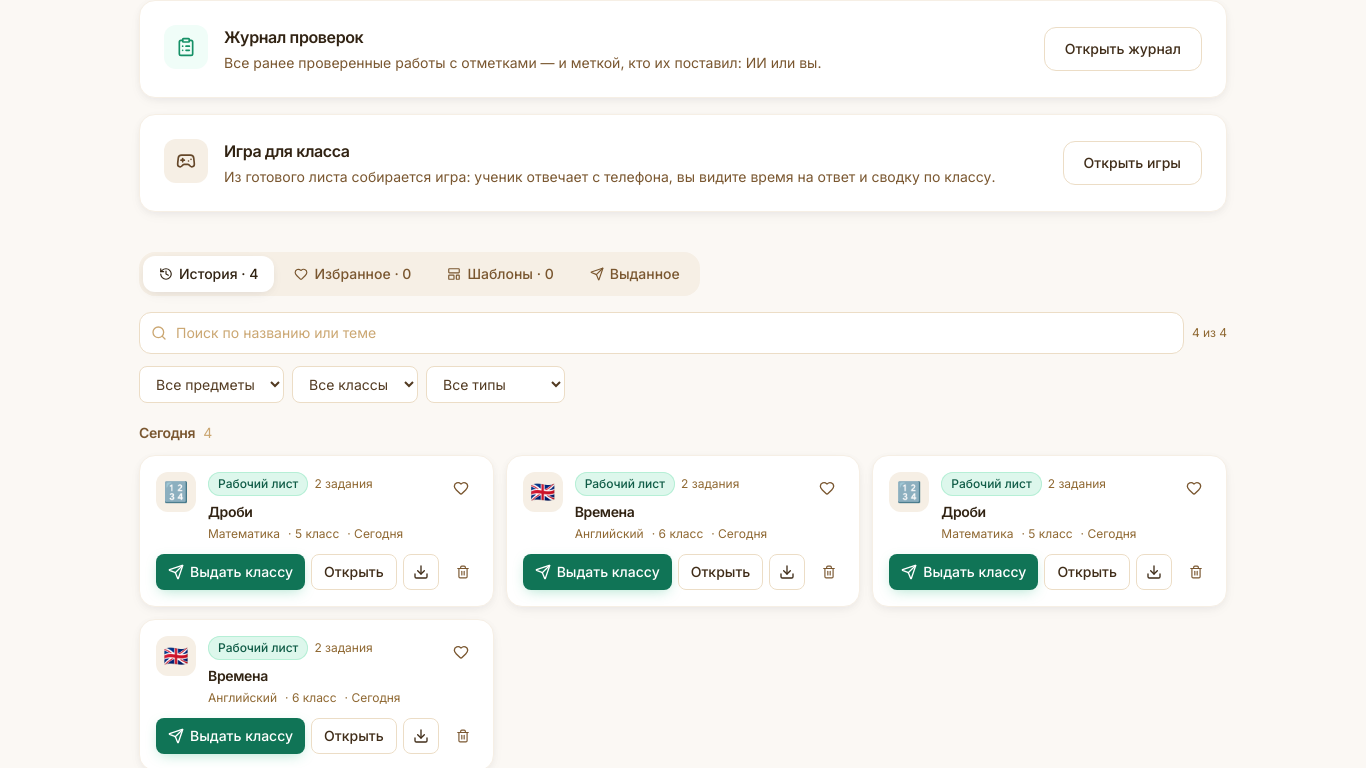
Поиск и фильтры в кабинете › фильтр по классу
(page scrolled)
Select "5 класс" in the dropdown with test id "filter-grade" at coordinates (355, 384), box 292,366 -> 418,403
(page scrolled)
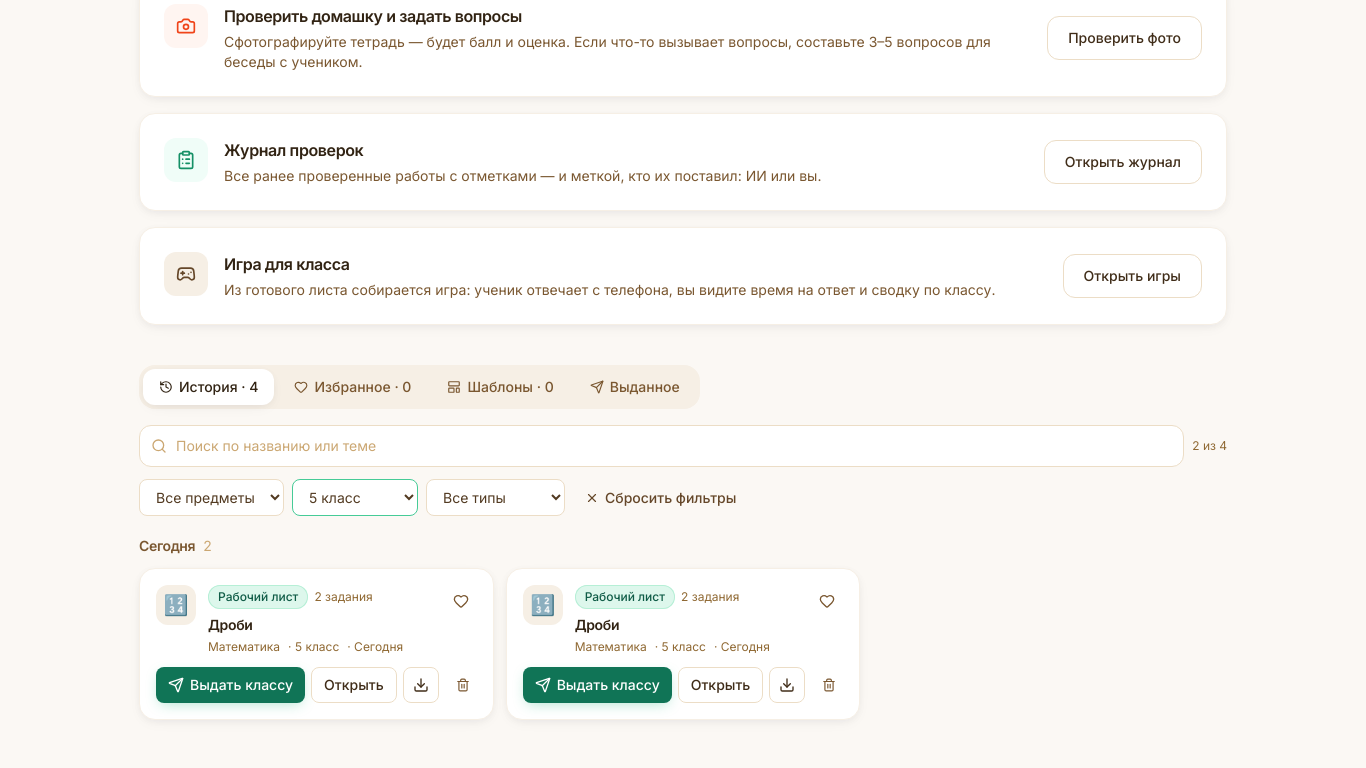
Expected: the element with test id "history-card" is shown, 139,568 -> 494,720
Now the heading "Времена" is gone
